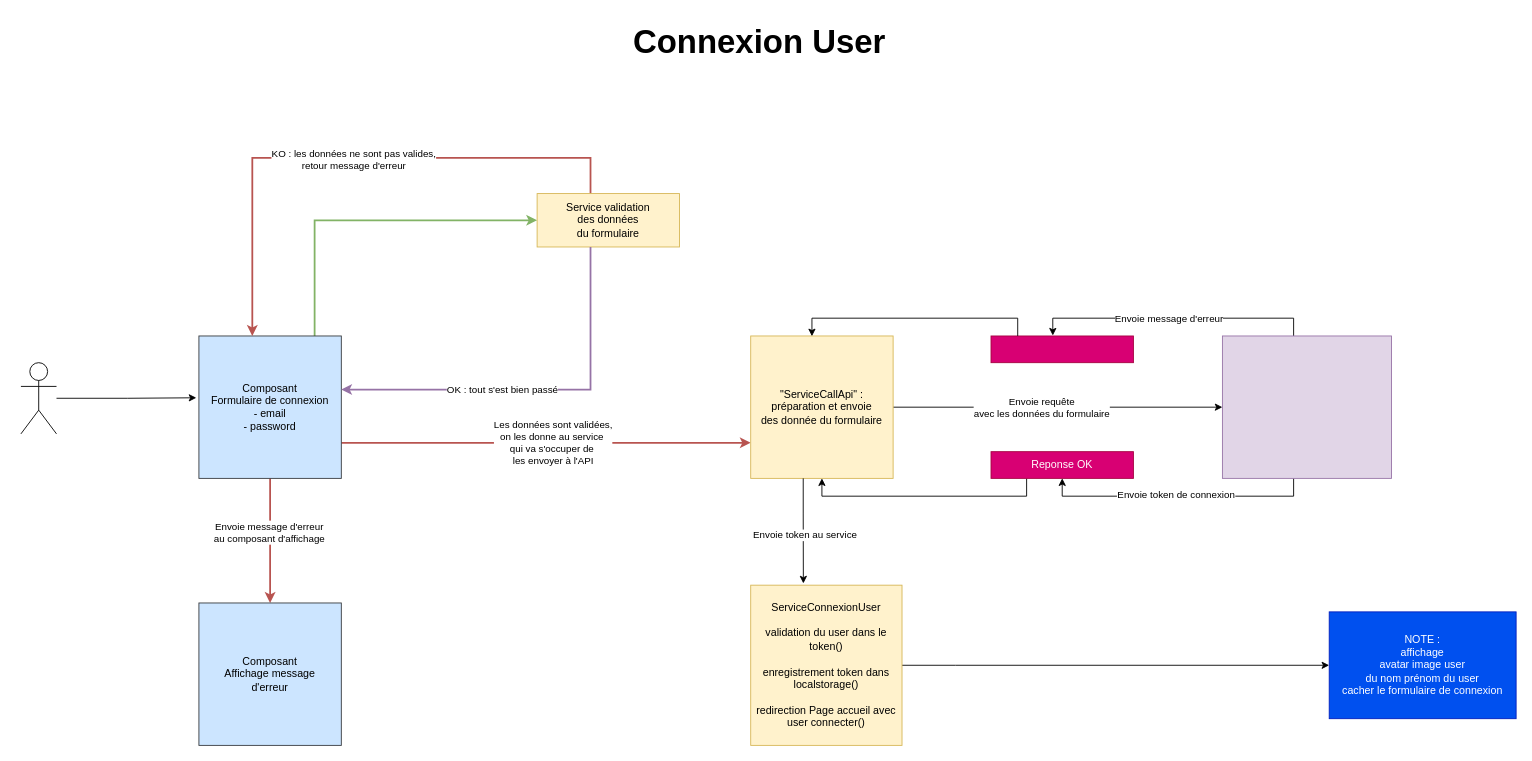
The diagram is 1532 pixels wide and 761 high, and some of its shapes have lost their labels. The shapes that lost their labels are listed below. From the top down, each one's centre as x and y in pixels, then its label:
point (1061, 349): Reponse KO
point (38, 398): Utilisateur
point (1307, 406): API
